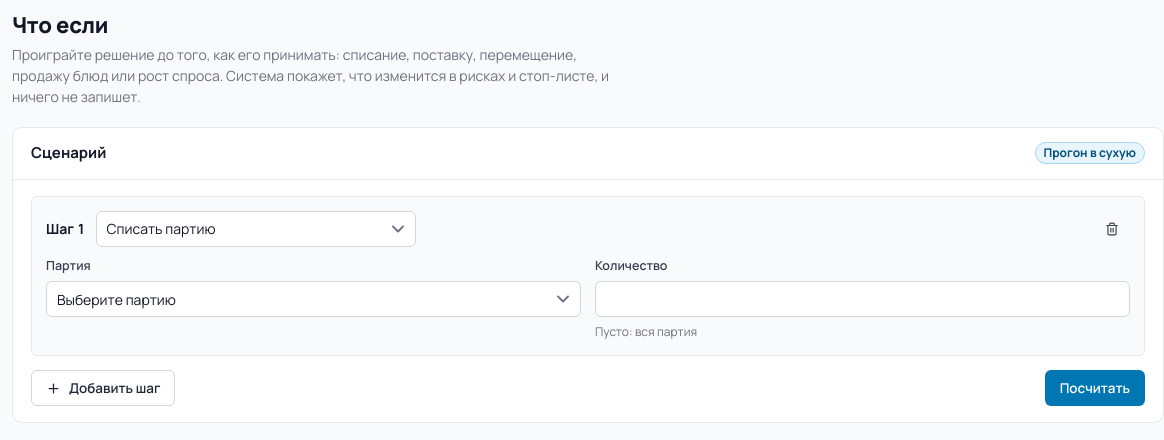
Test: страница › смена типа шага меняет поля
Select "Продать порции блюда" in the dropdown named "Шаг 1: действие" at (256,228), box [96, 210, 416, 246]
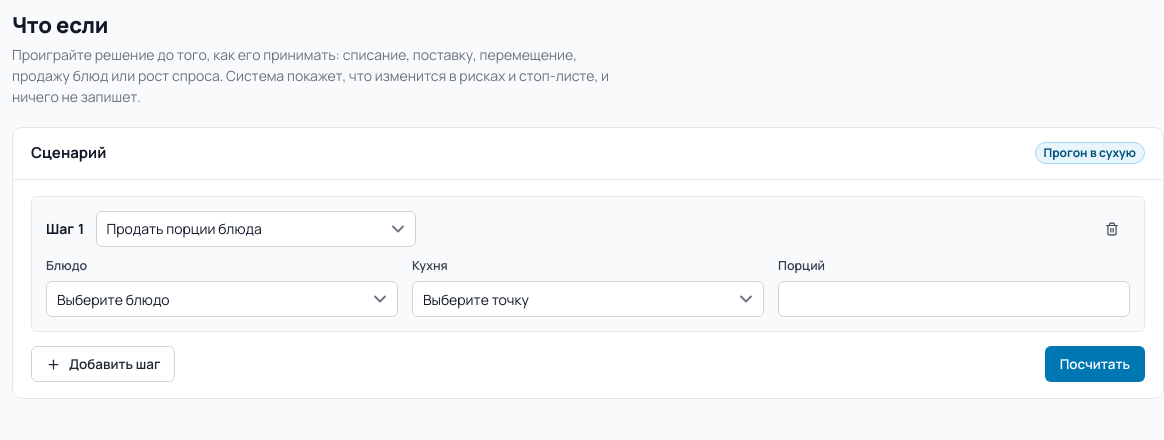
Now the dropdown labelled "Блюдо" is shown, box [46, 281, 398, 317]
Now the field labelled "Порций" is shown, box [778, 281, 1130, 317]
Now the label labelled "Партия" is gone
